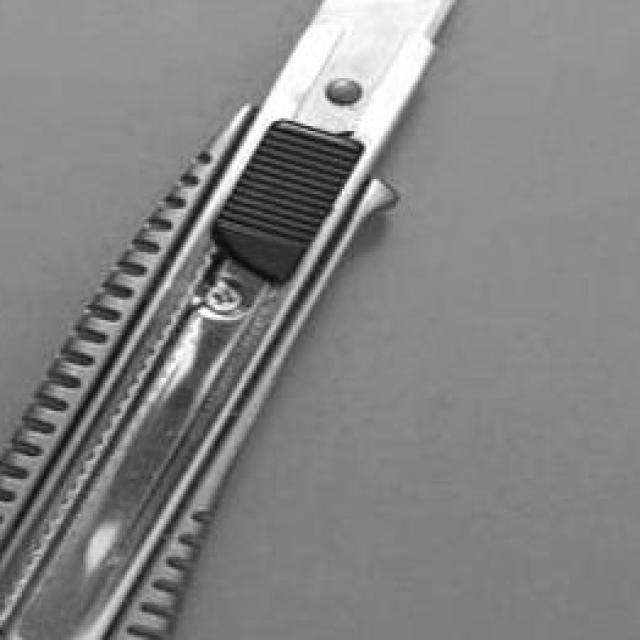estilete: (0, 0, 453, 640)
